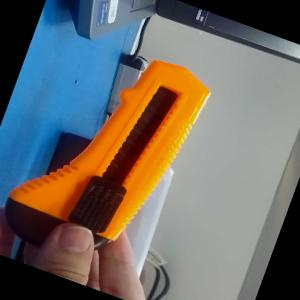estilete: (0, 23, 217, 285)
